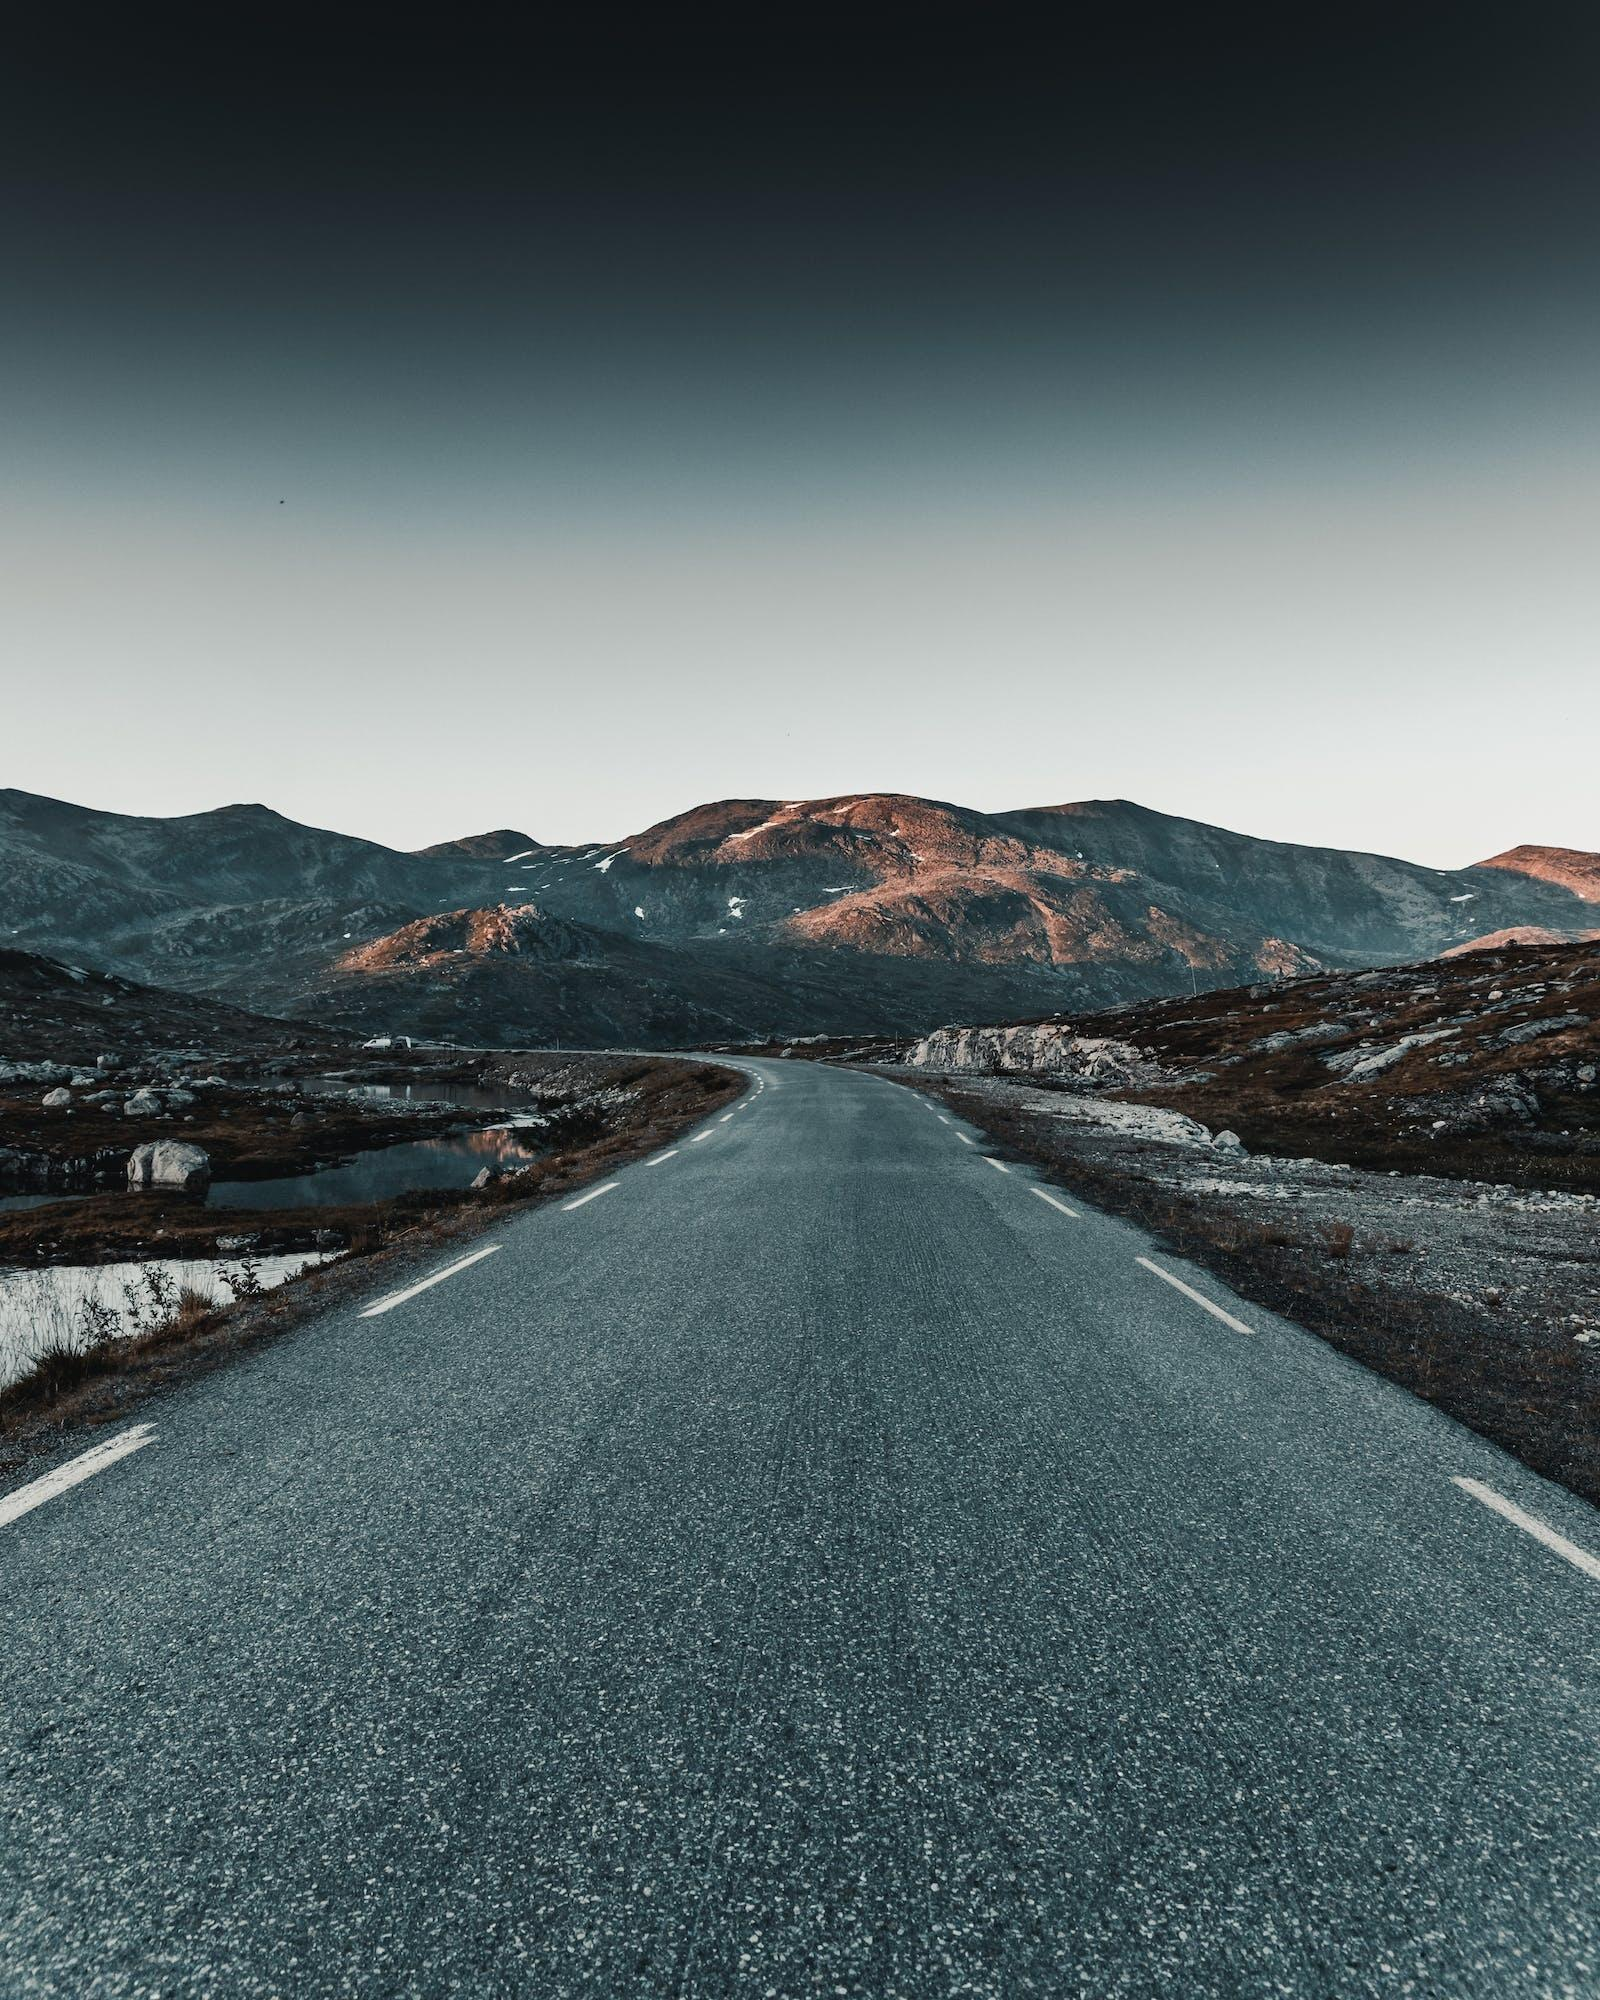road: (5, 1061, 1595, 1998)
